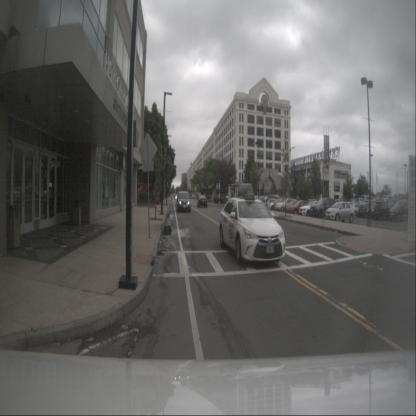vehicle-car: (218, 182, 286, 265), (325, 201, 356, 223), (310, 197, 339, 219), (388, 200, 412, 220), (298, 200, 326, 216), (374, 199, 393, 220), (287, 200, 312, 215), (176, 191, 191, 213), (275, 197, 295, 212), (13, 187, 36, 200), (358, 202, 374, 219), (350, 202, 368, 217), (26, 184, 44, 198), (264, 194, 281, 205), (267, 200, 283, 210), (354, 198, 368, 209), (361, 195, 376, 205), (197, 195, 208, 208), (213, 193, 226, 204), (383, 195, 394, 203), (192, 192, 201, 200)
